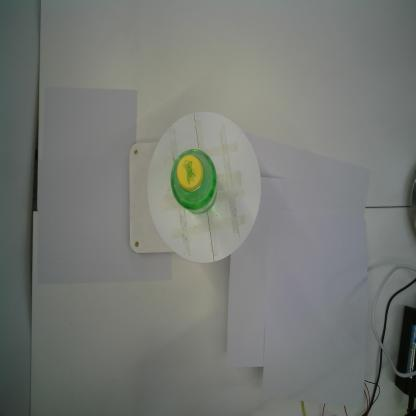Drink: (169, 145, 219, 216)
